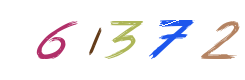2: (132, 0, 212, 80)
3: (103, 0, 183, 80)
6: (20, 0, 100, 80)
7: (127, 0, 207, 80)
I: (80, 0, 160, 80)
